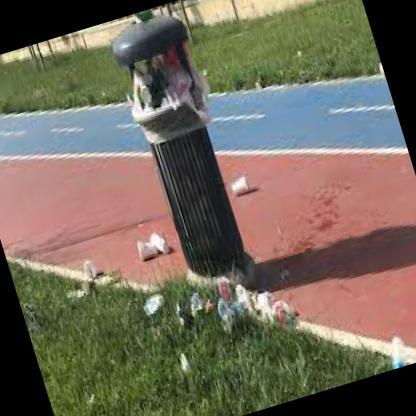Garbage: (178, 268, 286, 358), (122, 44, 210, 126), (62, 228, 138, 312), (123, 219, 174, 270), (130, 280, 166, 343), (201, 280, 239, 330), (222, 176, 263, 210), (155, 73, 184, 105)
